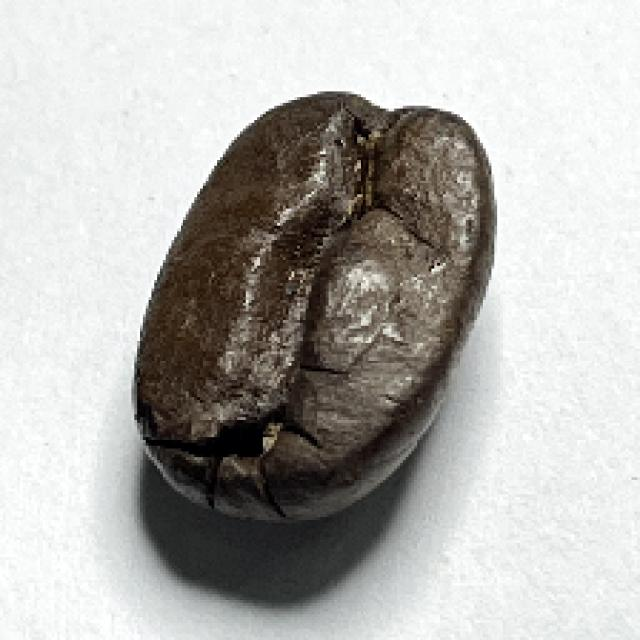bean: (130, 91, 498, 525)
